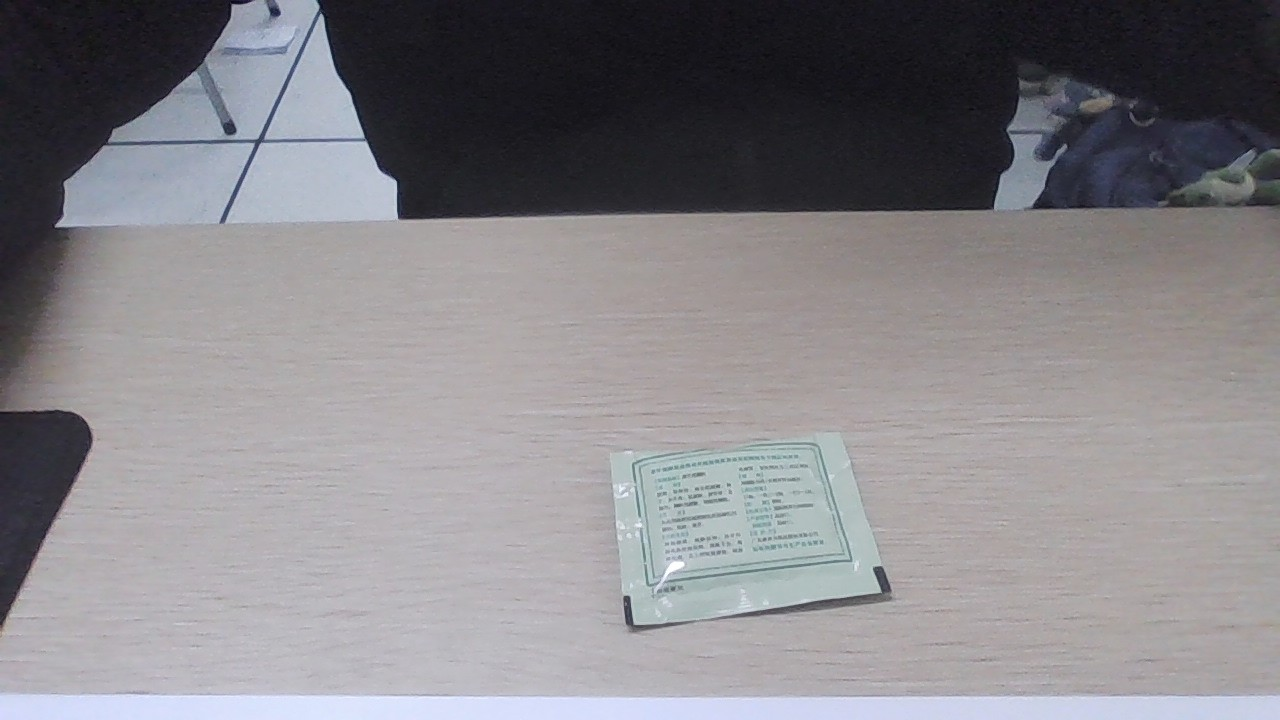YH-green medicine: (591, 437, 886, 613)
